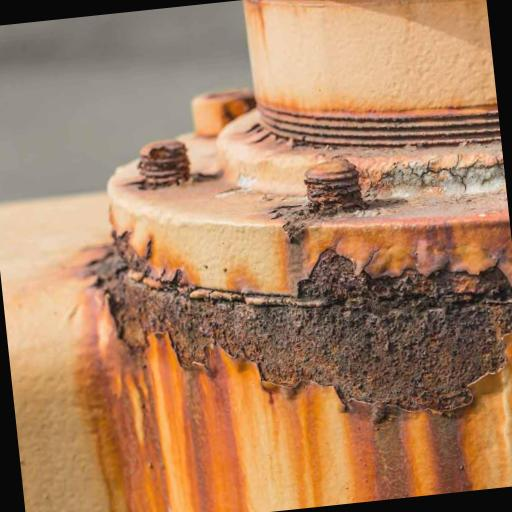segmentation: (89, 232, 512, 417), (90, 335, 512, 512), (109, 168, 292, 292), (303, 197, 512, 278), (259, 104, 501, 147), (430, 415, 469, 493), (193, 89, 255, 137), (304, 158, 362, 209), (139, 140, 191, 188), (373, 409, 395, 476)
